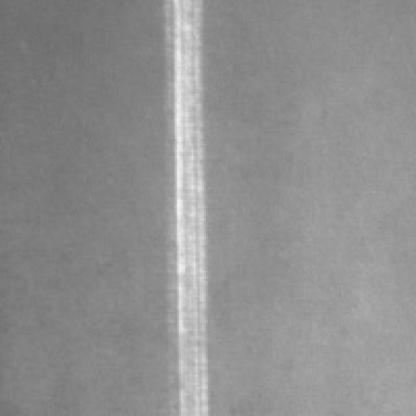scratches: (164, 0, 218, 412)
